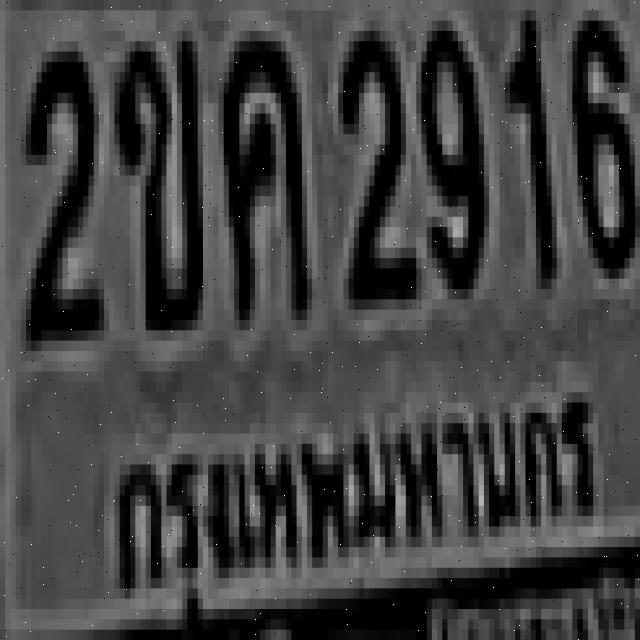1: (502, 0, 549, 278)
11KhorKhai: (110, 31, 198, 320)
13KhorKhwai: (219, 21, 307, 310)
2: (21, 42, 99, 330), (336, 16, 414, 294)
6: (567, 5, 635, 263)
9: (416, 10, 484, 288)
Bangkok: (94, 378, 608, 593)
